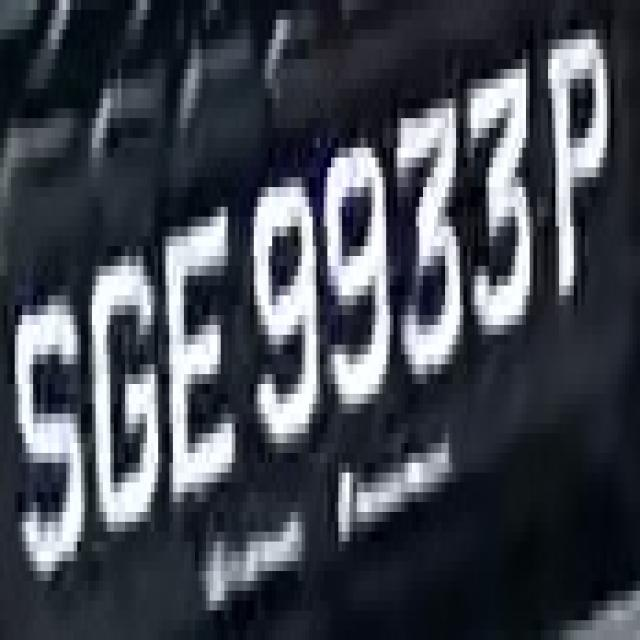3: (449, 39, 544, 354), (386, 89, 464, 414)
9: (312, 118, 393, 433), (250, 158, 320, 462)
E: (155, 197, 239, 541)
G: (81, 226, 162, 532)
P: (537, 10, 614, 295)
S: (7, 286, 92, 590)
